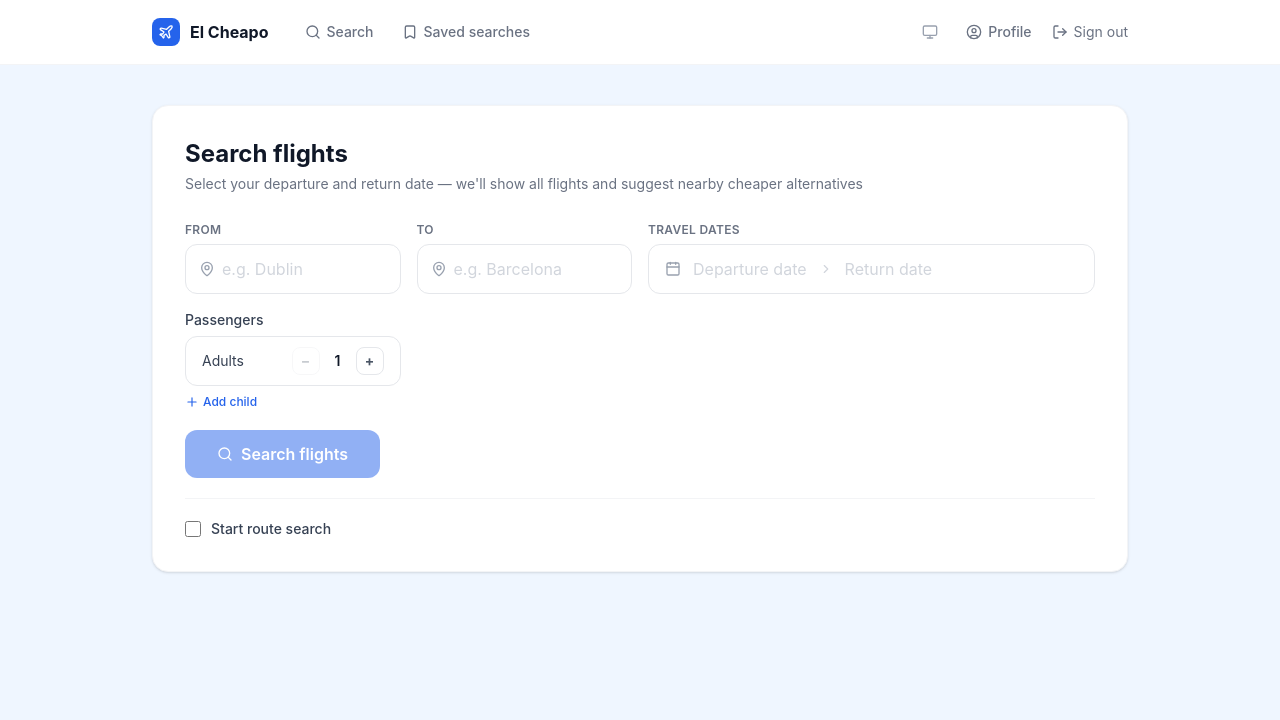
Test: Search — adults counter › decrements adults when − is clicked
Expected: the text "Adults" is shown, x1=202 y1=351 x2=244 y2=371
Click the button "+" at (370, 361), box x1=356 y1=347 x2=384 y2=375
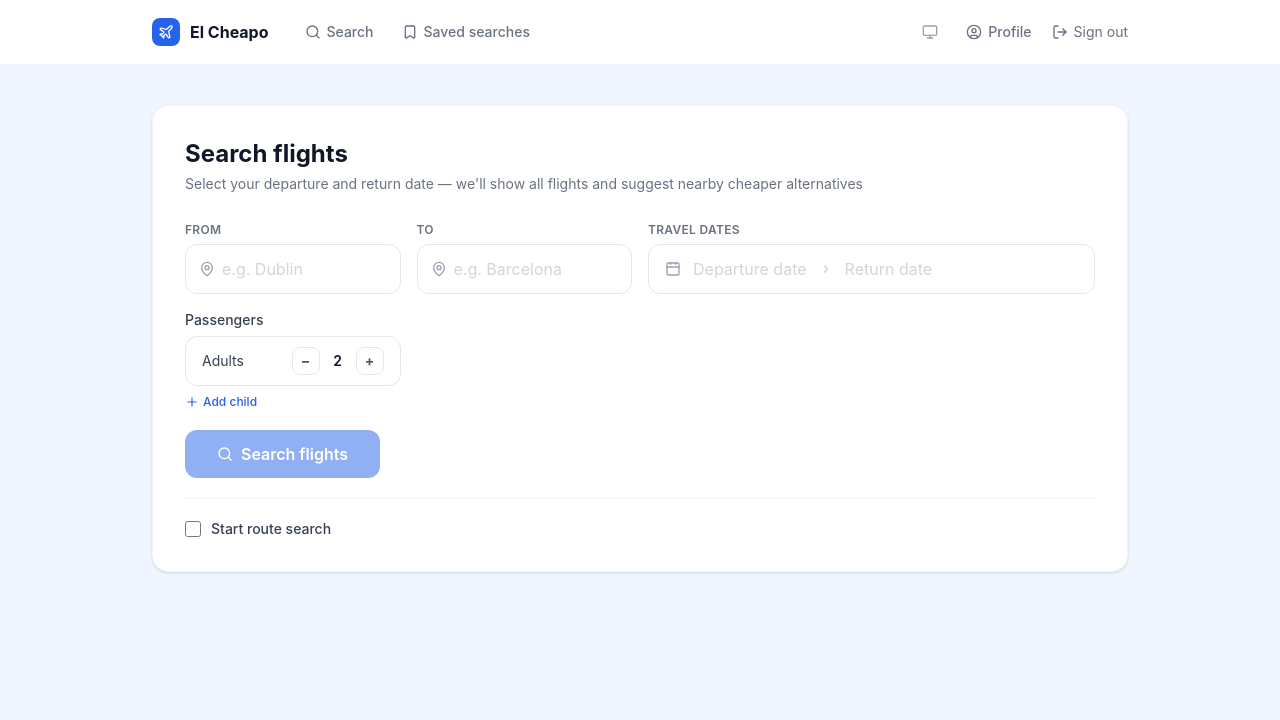
Click the button "−" at (306, 361), box x1=292 y1=347 x2=320 y2=375
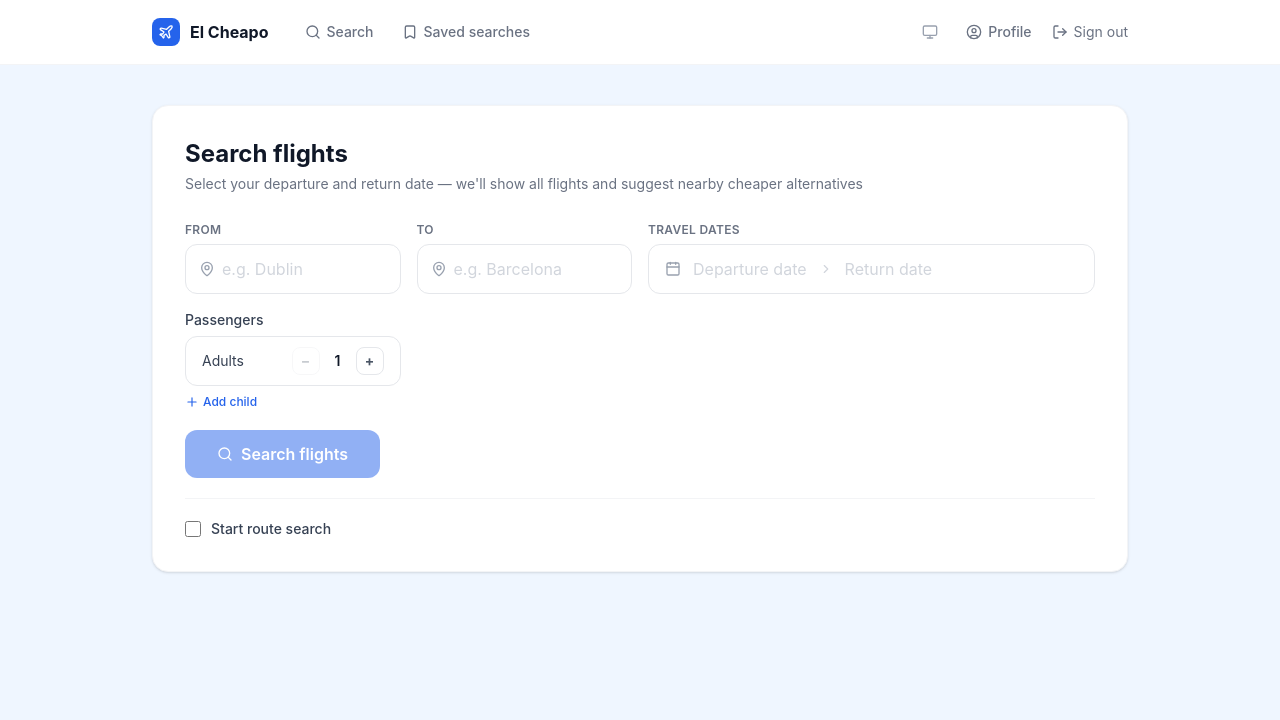
Expected: the text "1" is shown, x1=334 y1=352 x2=340 y2=369
